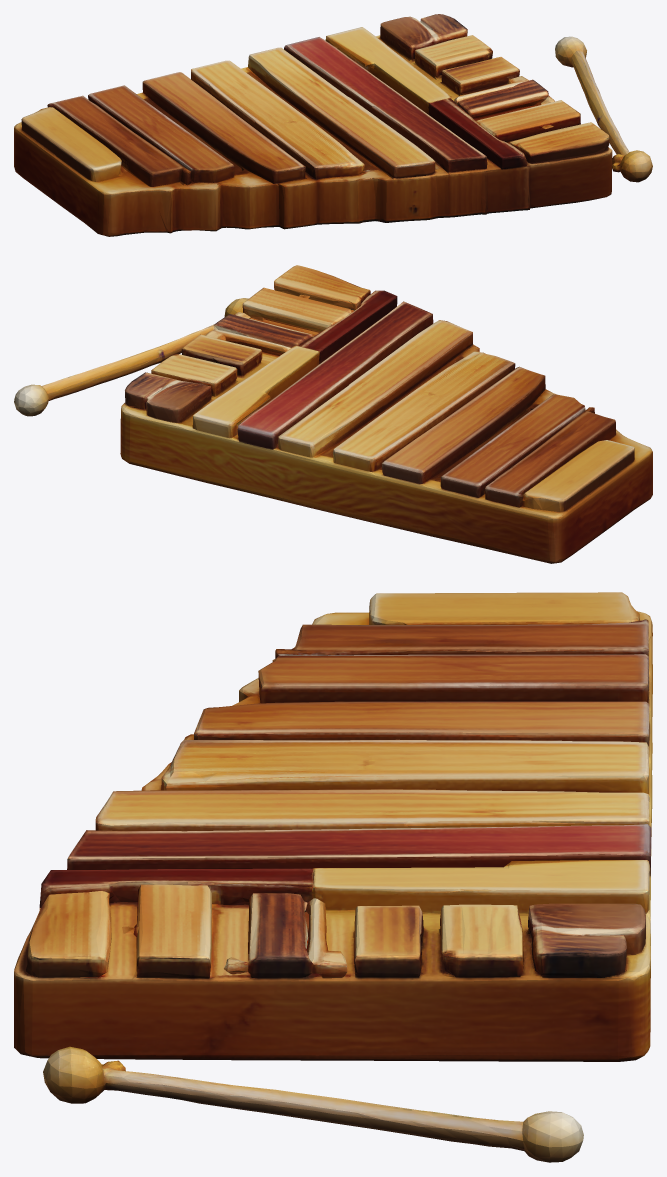
The model's file is wooden-xylophone-vintage.jpeg.glb.
The picture shows the model from 3 angles, top to bottom: view 1: azimuth 30°, elevation 25°; view 2: azimuth 150°, elevation 25°; view 3: azimuth 270°, elevation 25°; orthographic projection. The views are drawn at different scales.
Parts seen in each view (by area): view 1: world; view 2: world; view 3: world.
Part boxes in pixels (<box>): world: <box>14,14,652,236</box>; world: <box>14,265,652,563</box>; world: <box>14,592,652,1162</box>.
Bounding box in the file's own units: 0.9911 × 0.1121 × 0.5642.
Materials: 1 (1 with a texture image).
